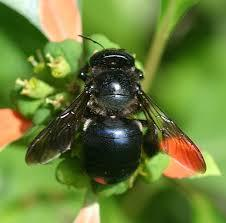Xylocopa: (27, 31, 216, 192)
